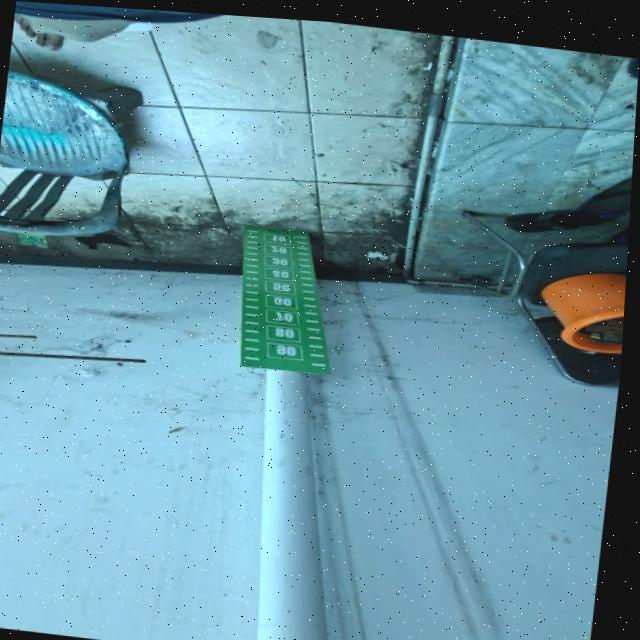water-meter: (209, 209, 361, 387)
